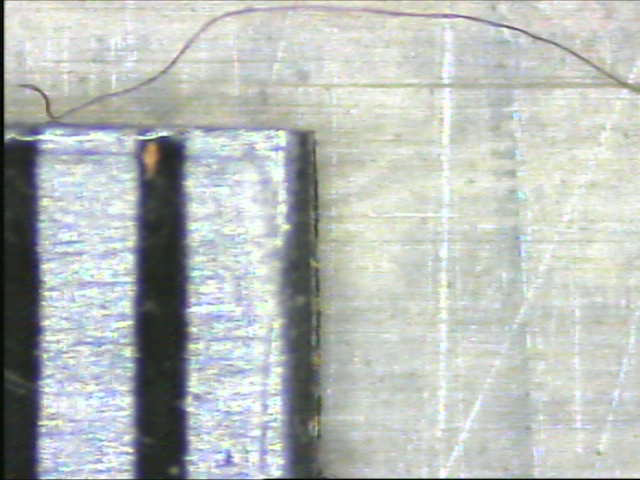edge: (278, 127, 328, 478)
line: (131, 126, 192, 479)
